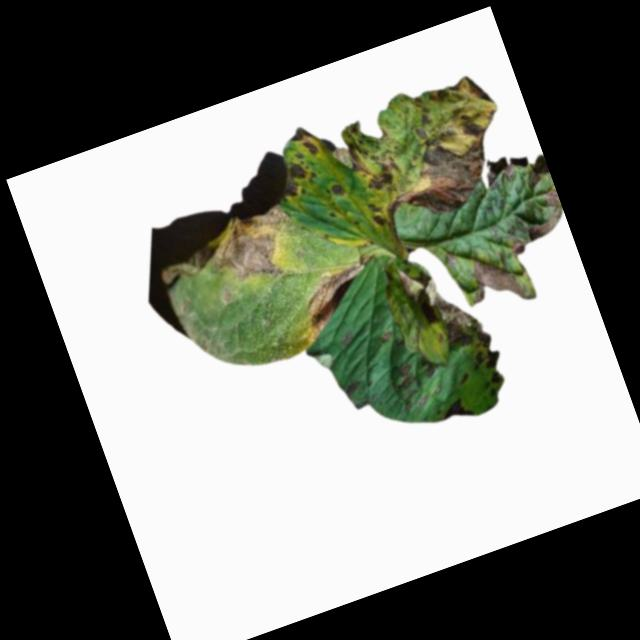Early_blight: (366, 63, 534, 228), (150, 201, 309, 316), (396, 249, 496, 367), (292, 260, 388, 345), (498, 186, 572, 257), (459, 245, 530, 316), (338, 115, 398, 198), (274, 159, 322, 202), (286, 122, 321, 163), (436, 396, 475, 427), (470, 343, 506, 375), (366, 199, 392, 231), (396, 363, 418, 390), (328, 179, 349, 200)
